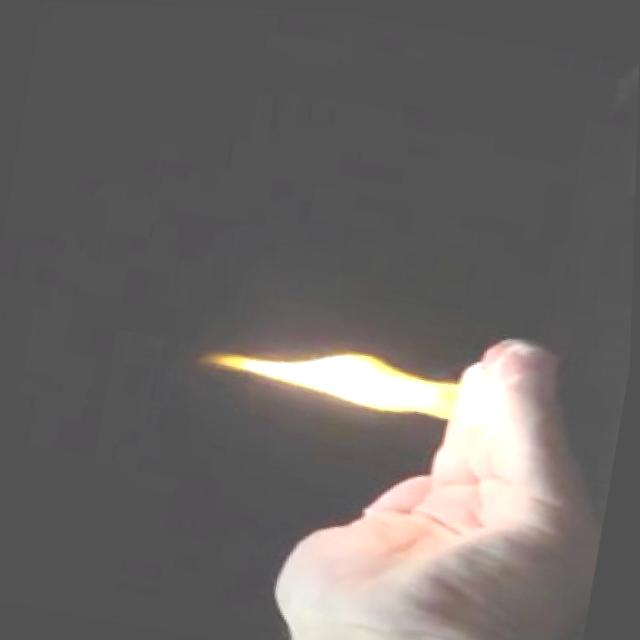helmet: (185, 322, 517, 437)
